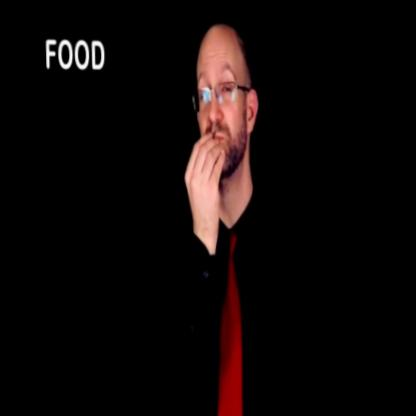Food: (155, 21, 304, 416)
